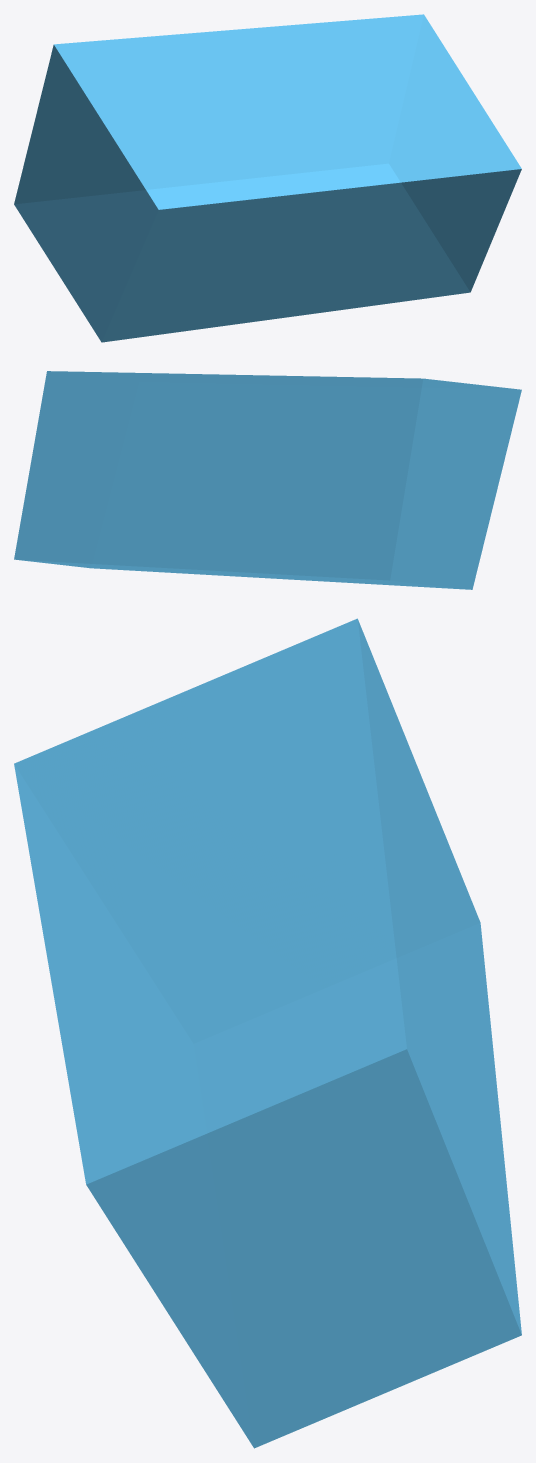
File: Event_420604493_HErechit_4.fbx
3 renders of one model, top to bottom at view 1: azimuth 30°, elevation 25°; view 2: azimuth 150°, elevation 25°; view 3: azimuth 270°, elevation 25°, orthographic. The views are drawn at different scales.
Visible parts, largest first — view 1: Model; view 2: Model; view 3: Model.
Part boxes in pixels (left/top/right/bottom): Model: left=14, top=14, right=521, bottom=342; Model: left=14, top=371, right=521, bottom=589; Model: left=14, top=618, right=521, bottom=1448.
Size of the model in its own units: 0.7265 by 0.5716 by 0.5038.
